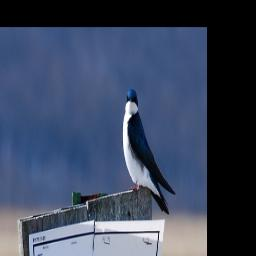Swallow: (121, 86, 175, 214)
